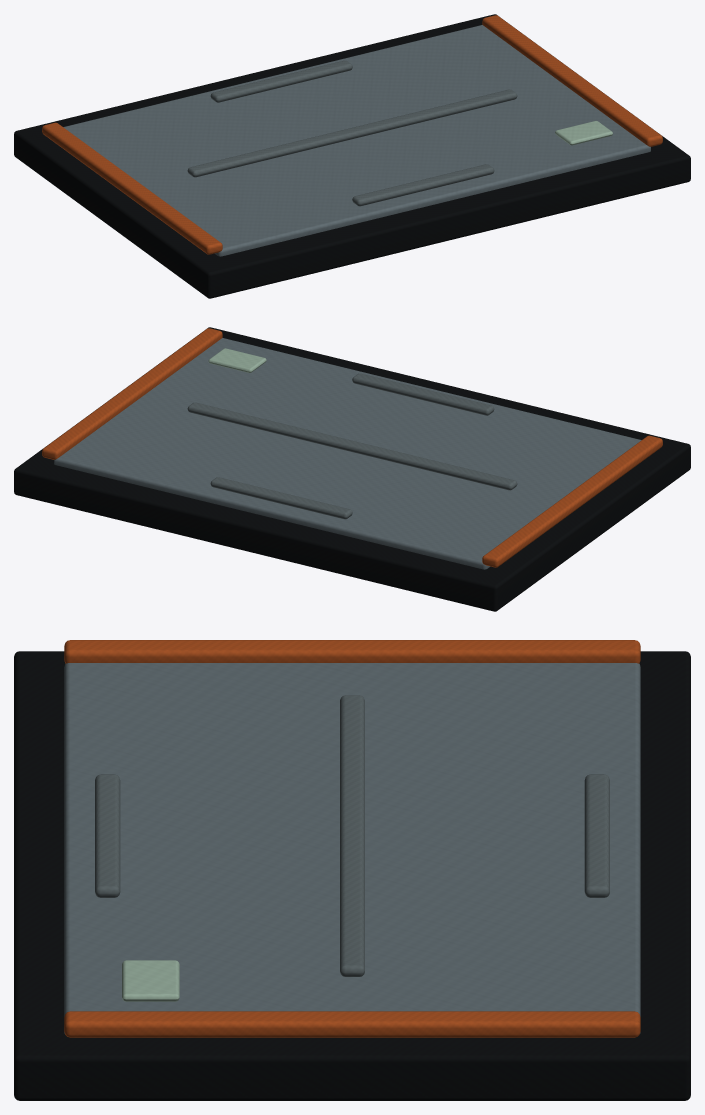
Rendered from FloorDeconMat.fbx.
The picture shows the model from 3 angles, top to bottom: view 1: azimuth 30°, elevation 25°; view 2: azimuth 150°, elevation 25°; view 3: azimuth 270°, elevation 25°; orthographic projection. The views are drawn at different scales.
Parts seen in each view (by area): view 1: FloorDeconMat_Mesh; view 2: FloorDeconMat_Mesh; view 3: FloorDeconMat_Mesh.
Boxes of the visible parts, box(x1,y1,x2,y2) form: FloorDeconMat_Mesh: box(14, 14, 690, 298); FloorDeconMat_Mesh: box(14, 327, 690, 611); FloorDeconMat_Mesh: box(14, 640, 690, 1100).
Size of the model in its own units: 134 by 10.5 by 94.
